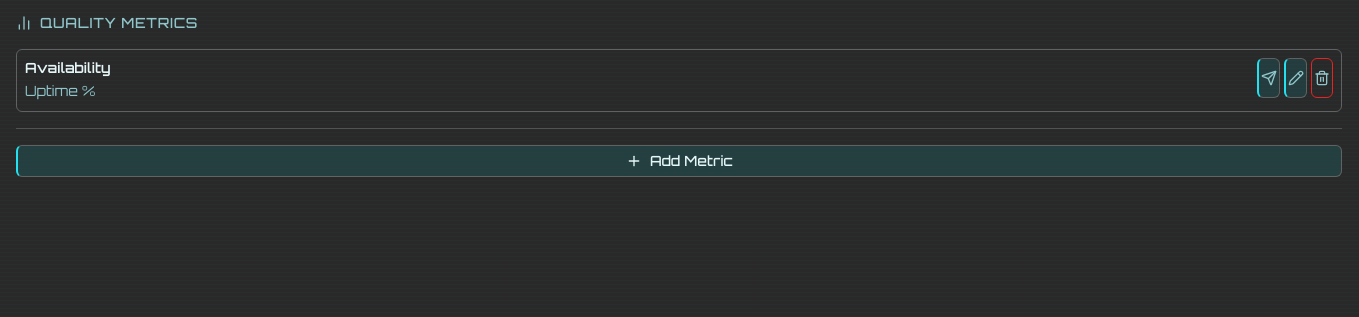
Test case: MetricsPanel › edit button shows inline edit form
Click the button titled "Edit metric". click: x=1296, y=78
box: 1284,58 -> 1307,98
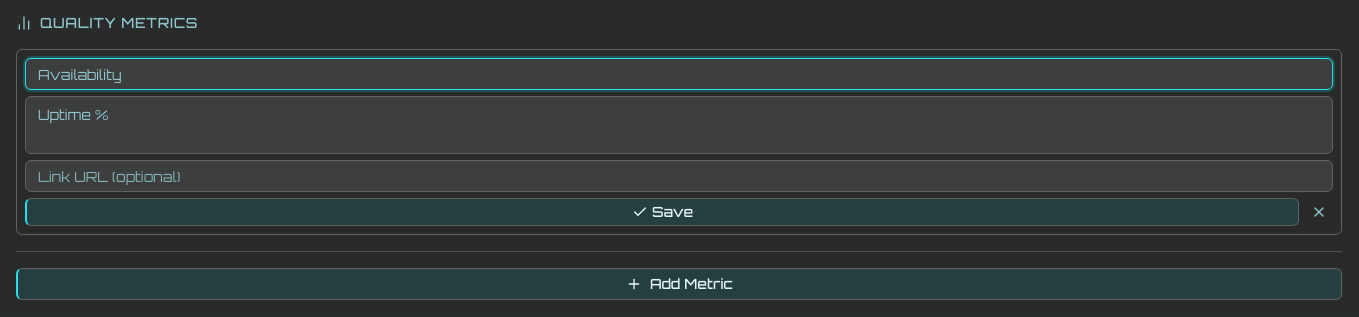
Result: the field with placeholder "Metric name" is shown at 25,58 -> 1333,90
